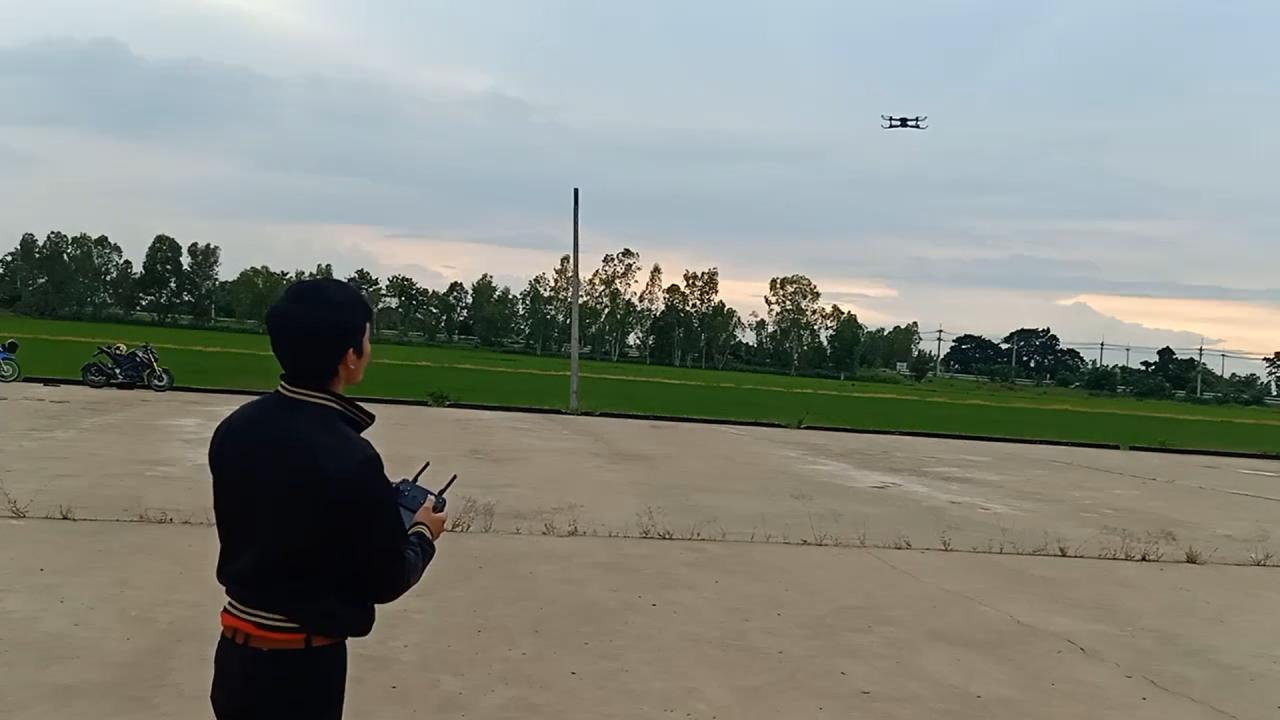Drone: (870, 105, 934, 137)
